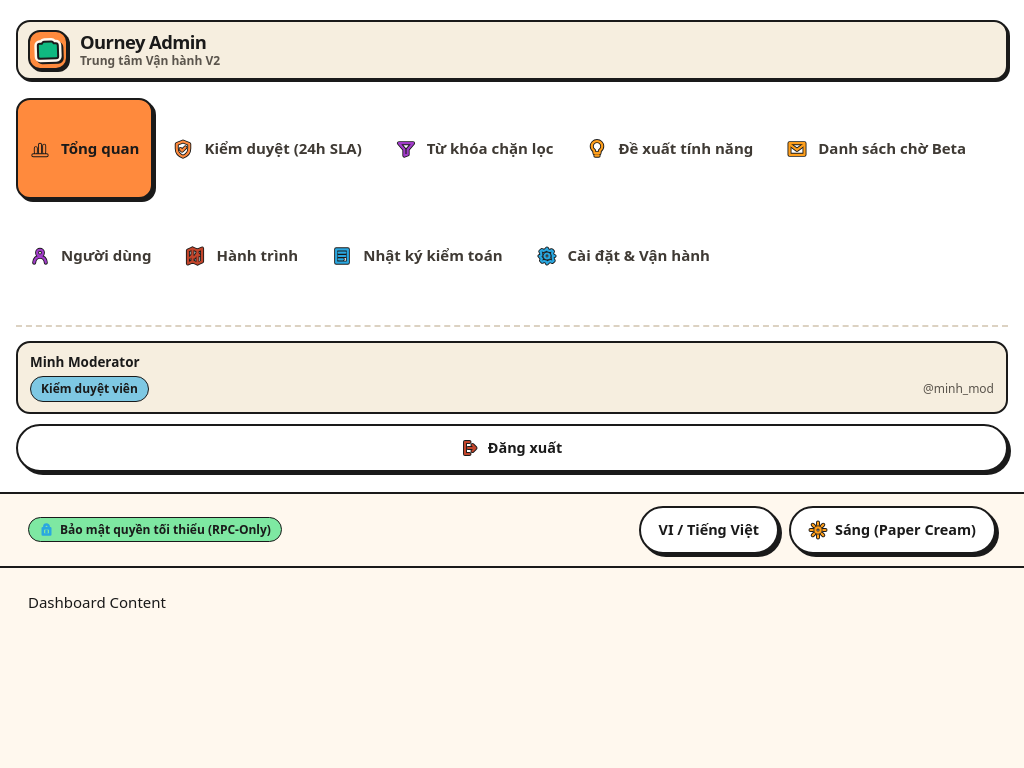
AdminAuthGuard, Central Error Mapper (UX-10), and Localization Helpers (UX-42) › renders session revocation banner in the newly toggled language without stale locale closure (F-43)
Expected: the text "Dashboard Content" is shown, [28,592,166,612]
Note: Toggle language from initial 'vi' to 'en' while authenticated
Click the button with aria-label "Chuyển đổi ngôn ngữ VI/EN" at (709, 530), box [638,506,779,554]
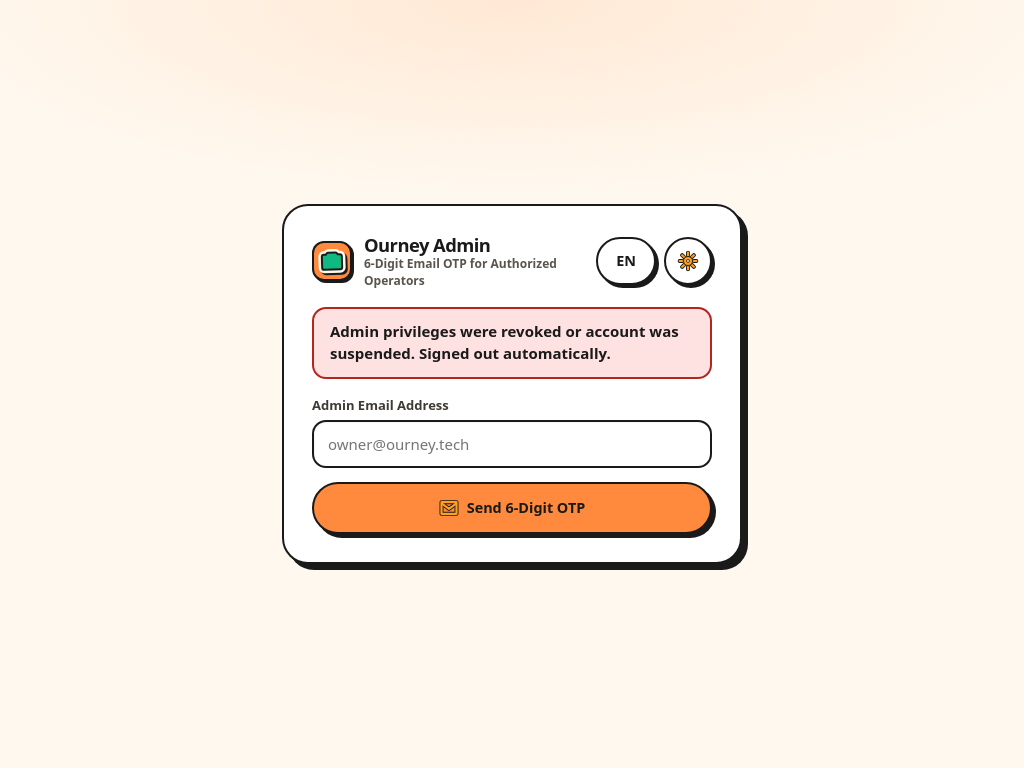
Result: the text "Admin privileges were revoked or account was suspended" is shown at [330,321,679,363]
